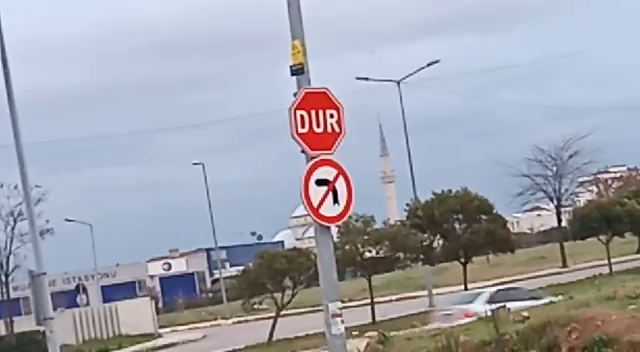no_left: (295, 156, 358, 230)
stop: (284, 85, 350, 158)
